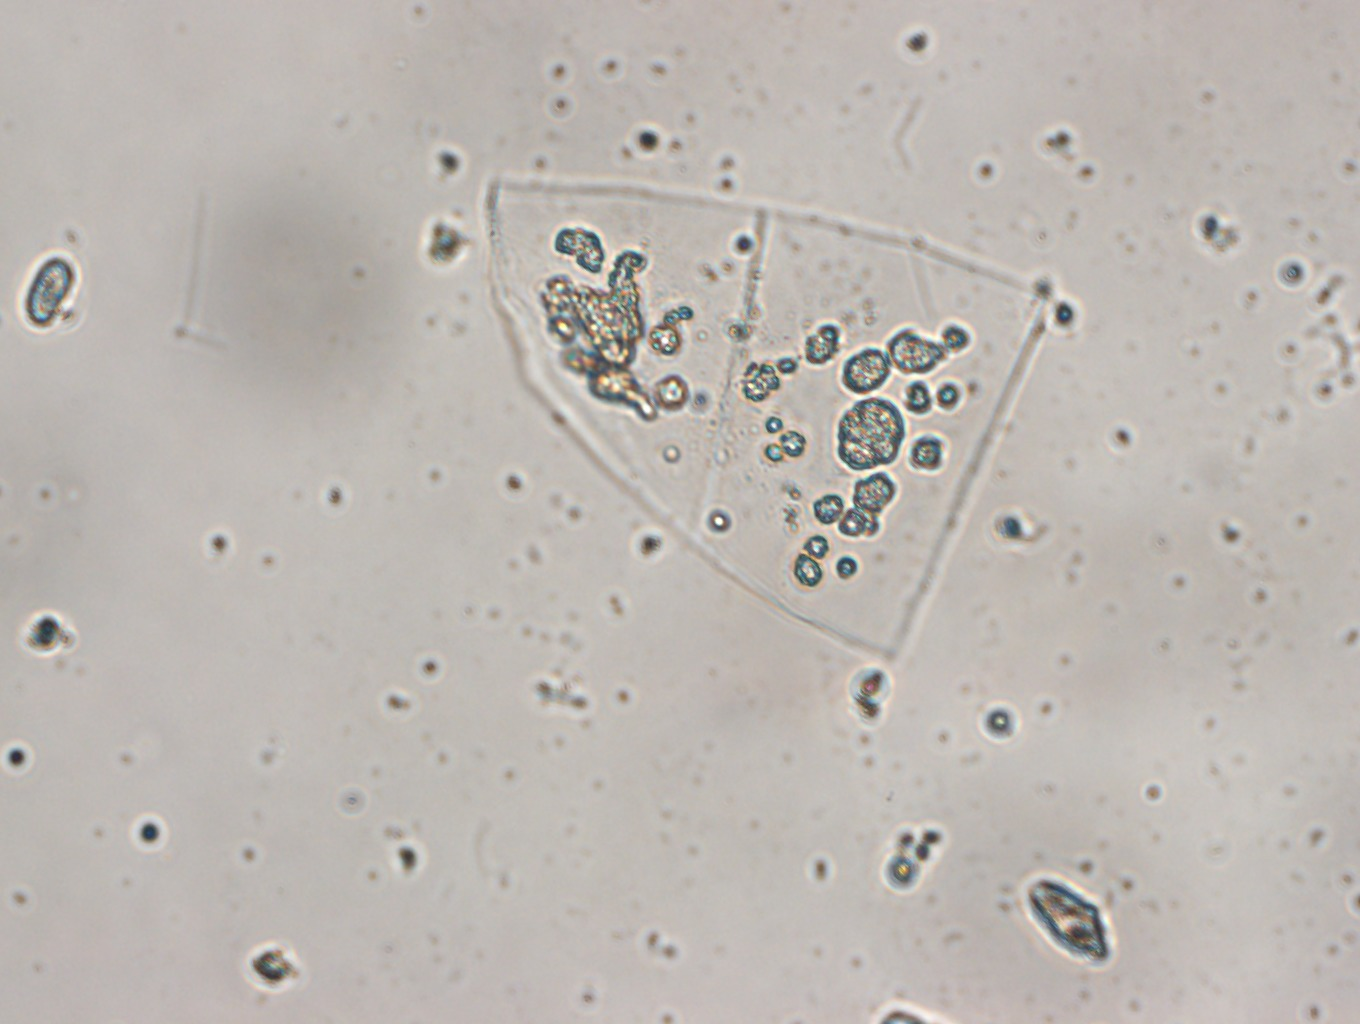helicotheca: (481, 174, 1058, 666)
